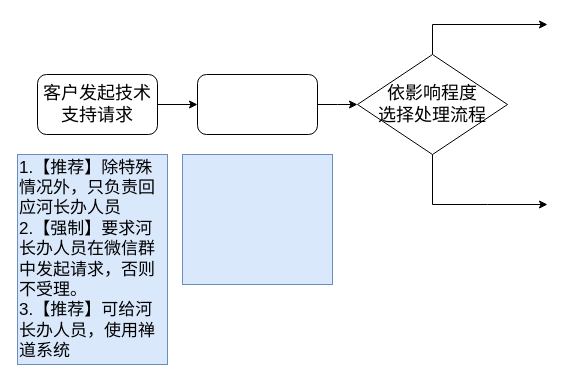
The diagram is 573 pixels wide and 382 high, and some of its shapes have lost their labels. The centre of each missing label's shape, as x and y in pixels:
"1.【推荐】在群里的任何人员，看到后第一时间回复收到，再到内部群中通知第一负责人处理" goes at [257,219].
"负责人回应技术支持请求" goes at [257,104].
